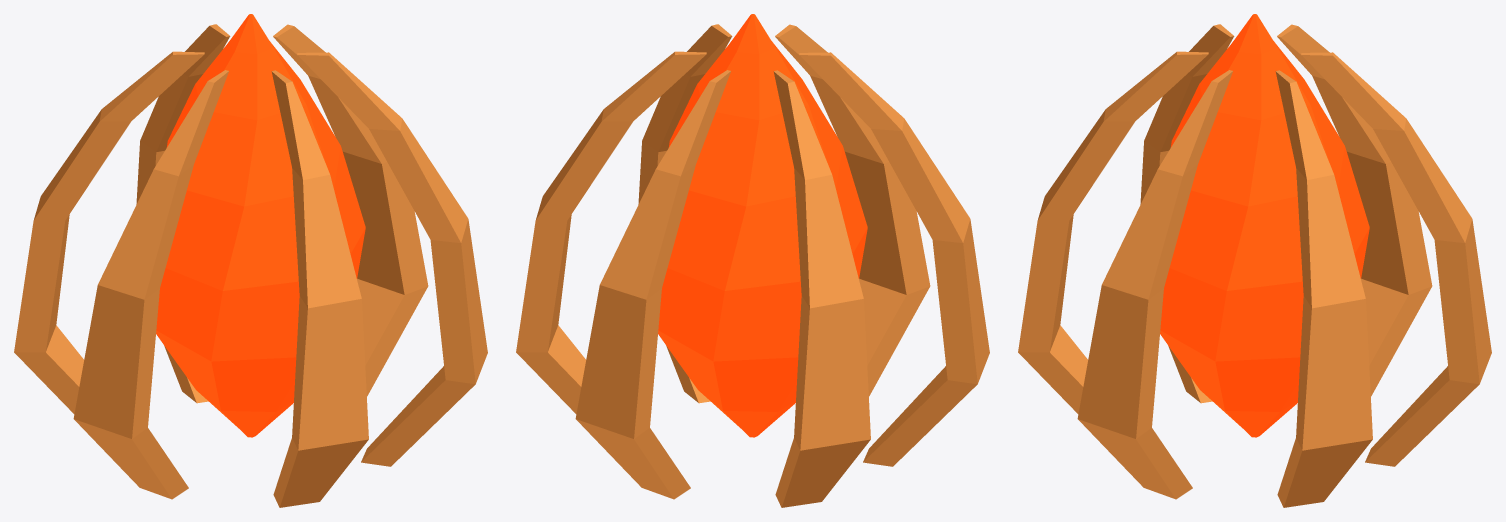
The model's file is ember_collectible.glb.
3 views of the same model, side by side, from view 1: azimuth 30°, elevation 25°; view 2: azimuth 150°, elevation 25°; view 3: azimuth 270°, elevation 25° (orthographic).
Visible parts, largest first — view 1: ember_collectible; view 2: ember_collectible; view 3: ember_collectible.
Part boxes in pixels (left/top/right/bottom): ember_collectible: left=14, top=14, right=487, bottom=507; ember_collectible: left=516, top=14, right=989, bottom=507; ember_collectible: left=1018, top=14, right=1491, bottom=507.
Bounding box in the file's own units: 0.3802 × 0.39 × 0.388.
